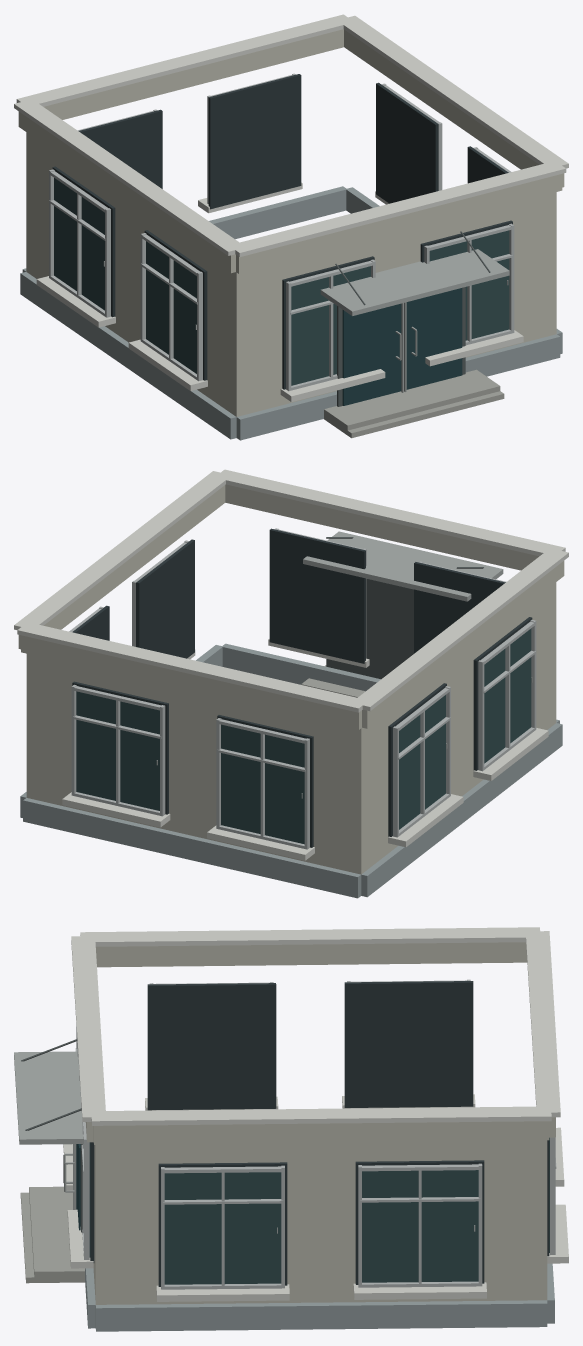
Rendered from osm_way_224953835.glb.
The picture shows the model from 3 angles, top to bottom: view 1: azimuth 30°, elevation 25°; view 2: azimuth 150°, elevation 25°; view 3: azimuth 270°, elevation 25°; orthographic projection. The views are drawn at different scales.
Parts seen in each view (by area): view 1: Architecture | osm_way_224953835, Windows and facade details | osm_way_224953835, EXTERIOR::osm_way_224953835::inferred entry doors canopy and, Roof services | osm_way_224953835; view 2: Architecture | osm_way_224953835, Windows and facade details | osm_way_224953835, Roof services | osm_way_224953835, EXTERIOR::osm_way_224953835::inferred entry doors canopy and; view 3: Windows and facade details | osm_way_224953835, Architecture | osm_way_224953835, Roof services | osm_way_224953835, EXTERIOR::osm_way_224953835::inferred entry doors canopy and.
Part boxes in pixels (x1=…): Architecture | osm_way_224953835: x1=18, y1=29, x2=564, y2=440; Windows and facade details | osm_way_224953835: x1=36, y1=73, x2=523, y2=402; EXTERIOR::osm_way_224953835::inferred entry doors canopy and: x1=320, y1=231, x2=509, y2=438; Roof services | osm_way_224953835: x1=14, y1=14, x2=568, y2=256; Architecture | osm_way_224953835: x1=18, y1=484, x2=564, y2=898; Windows and facade details | osm_way_224953835: x1=62, y1=528, x2=548, y2=860; Roof services | osm_way_224953835: x1=14, y1=469, x2=568, y2=712; EXTERIOR::osm_way_224953835::inferred entry doors canopy and: x1=301, y1=531, x2=503, y2=697; Windows and facade details | osm_way_224953835: x1=63, y1=979, x2=568, y2=1301; Architecture | osm_way_224953835: x1=85, y1=942, x2=555, y2=1331; Roof services | osm_way_224953835: x1=71, y1=927, x2=560, y2=1125; EXTERIOR::osm_way_224953835::inferred entry doors canopy and: x1=14, y1=1039, x2=84, y2=1283.
Size of the model in its own units: 9.17 by 4.54 by 10.7.
